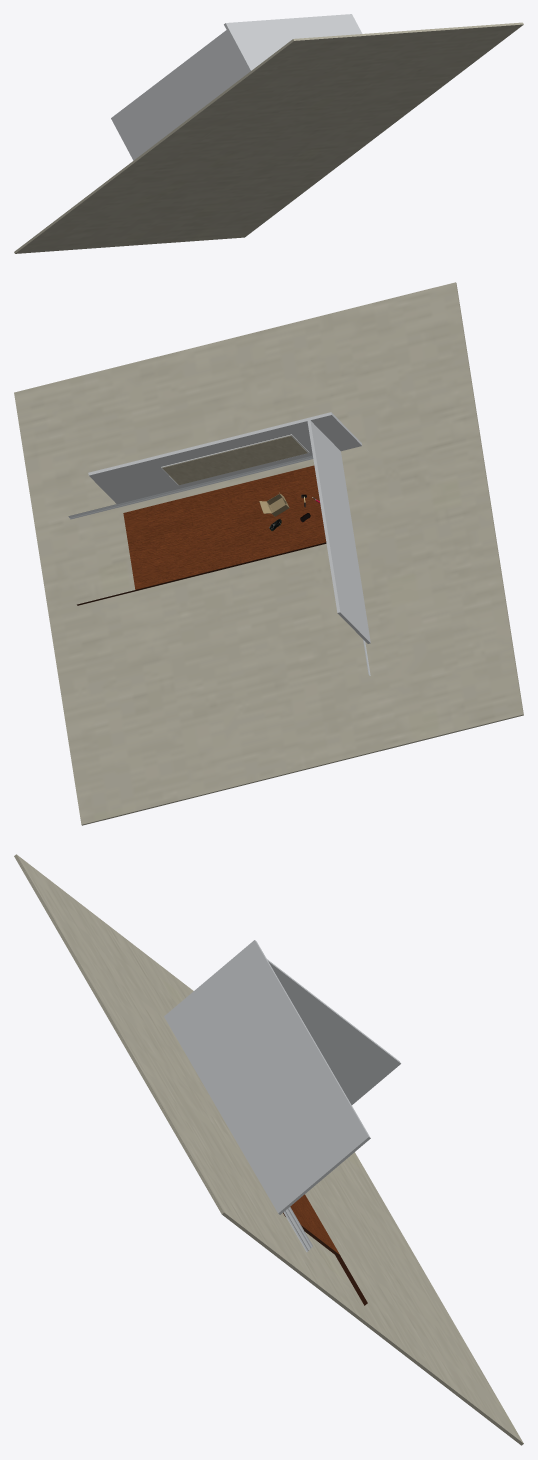
The model's file is viga.glb.
3 renders of one model, top to bottom at view 1: azimuth 30°, elevation 25°; view 2: azimuth 150°, elevation 25°; view 3: azimuth 270°, elevation 25°, orthographic. The views are drawn at different scales.
Visible parts, largest first — view 1: Pale surrounding floor, Right wall, Back wall; view 2: Pale surrounding floor, Back wall, Right wall, Back beige inset, Continuous rounded gray baseboard; view 3: Pale surrounding floor, Back wall, Right wall.
Boxes of the visible parts, x1,y1,x2,y2 form: Pale surrounding floor: [14, 22, 523, 253]; Right wall: [111, 30, 248, 160]; Back wall: [224, 14, 362, 72]; Pale surrounding floor: [14, 282, 523, 825]; Back wall: [88, 412, 362, 503]; Right wall: [307, 420, 370, 643]; Back beige inset: [162, 435, 307, 485]; Continuous rounded gray baseboard: [68, 455, 370, 675]; Pale surrounding floor: [14, 854, 523, 1445]; Back wall: [164, 940, 370, 1214]; Right wall: [267, 959, 400, 1104].
Size of the model in its own units: 8.12 by 6.01 by 5.56.
62 materials, 49 textured.
